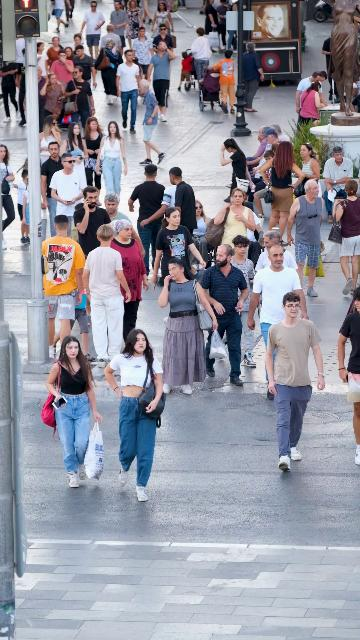person: (264, 291, 326, 471), (105, 328, 167, 502), (44, 335, 104, 489), (157, 258, 219, 396), (197, 244, 250, 386), (81, 224, 132, 369), (246, 244, 310, 353), (40, 216, 87, 357), (109, 219, 150, 348), (150, 207, 207, 288), (286, 180, 324, 297), (259, 140, 306, 233), (127, 164, 166, 274), (337, 287, 360, 466), (141, 167, 198, 237), (329, 178, 360, 296), (50, 153, 87, 238), (73, 185, 112, 260), (103, 194, 145, 263), (214, 187, 257, 252), (321, 146, 355, 224), (145, 40, 176, 122), (136, 79, 165, 165), (97, 121, 128, 201), (219, 138, 256, 203), (62, 66, 96, 135), (41, 140, 64, 238), (245, 128, 279, 192), (117, 49, 141, 133), (82, 117, 108, 193), (60, 122, 87, 193), (208, 50, 236, 114), (254, 231, 298, 271), (240, 42, 265, 112), (79, 1, 106, 63), (227, 235, 257, 289), (99, 38, 123, 105), (0, 144, 18, 233), (39, 115, 63, 177), (40, 73, 68, 122), (295, 71, 327, 113), (299, 80, 327, 126), (190, 27, 212, 82), (50, 49, 74, 98), (72, 44, 97, 90), (295, 142, 321, 186), (133, 27, 154, 78), (191, 199, 212, 249), (245, 127, 269, 167), (125, 0, 144, 50), (151, 2, 174, 43), (250, 149, 275, 186), (109, 1, 128, 49), (214, 0, 232, 48), (99, 25, 124, 55), (153, 24, 174, 58), (178, 51, 194, 92), (47, 37, 65, 73), (37, 65, 46, 133), (52, 0, 68, 32), (205, 0, 218, 35), (36, 42, 49, 76), (69, 33, 84, 56), (65, 0, 75, 23), (65, 47, 75, 62)
